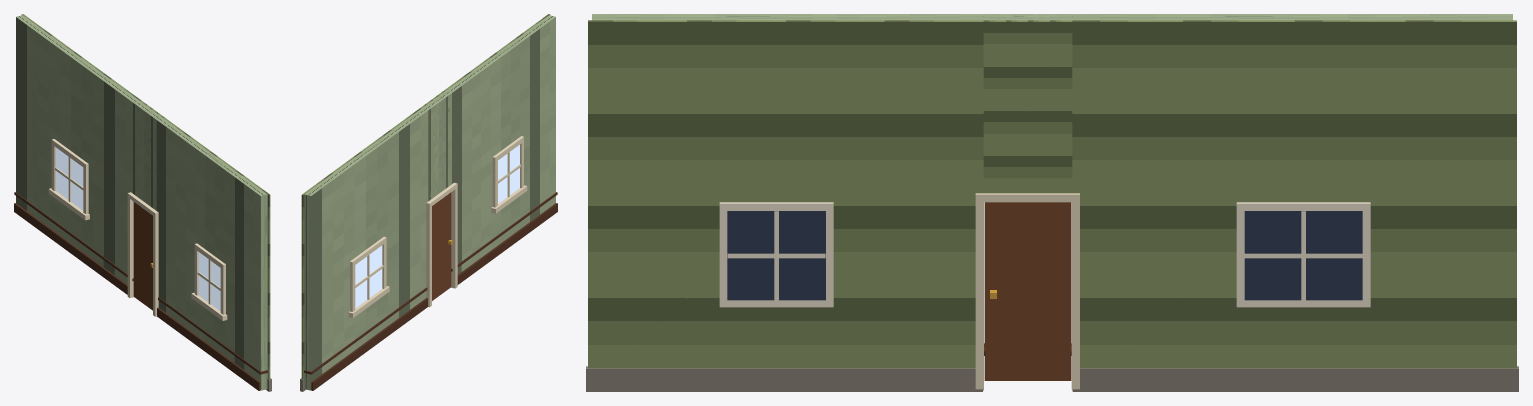
The model's file is left.glb.
3 renders of one model, left to right at view 1: azimuth 30°, elevation 25°; view 2: azimuth 150°, elevation 25°; view 3: azimuth 270°, elevation 25°, orthographic. The views are drawn at different scales.
Parts seen in each view (by area): view 1: Box1, Box3, Box5, Box14, Box2, Box4, Box25, Box8, Box36, Box41, Box11, Box12 (+10 smaller); view 2: Box1, Box3, Box5, Box14, Box2, Box25, Box4, Box6, Box36, Box39, Box12, Box11 (+10 smaller); view 3: Box6, Box8, Box14, Box10, Box7, Box18, Box9, Box29, Box17, Box28, Box1, Box3 (+3 smaller).
Part boxes in pixels (x1,y1,x2,y2): Box1: (16, 15, 139, 284); Box3: (156, 118, 267, 390); Box5: (133, 101, 162, 210); Box14: (133, 202, 152, 310); Box2: (14, 203, 127, 294); Box4: (157, 307, 260, 390); Box25: (56, 147, 83, 210); Box8: (163, 118, 270, 379); Box36: (198, 252, 220, 310); Box41: (158, 300, 267, 389); Box11: (127, 192, 133, 297); Box12: (153, 211, 158, 316); Box1: (304, 108, 428, 390); Box3: (445, 15, 555, 274); Box5: (422, 91, 451, 201); Box14: (432, 192, 451, 300); Box2: (311, 298, 427, 390); Box25: (355, 245, 382, 308); Box4: (457, 203, 557, 284); Box6: (301, 108, 420, 379); Box36: (498, 145, 519, 203); Box39: (304, 291, 426, 389); Box12: (451, 182, 457, 288); Box11: (426, 201, 431, 307); Box6: (1072, 20, 1516, 390); Box8: (588, 20, 983, 390); Box14: (984, 202, 1071, 380); Box10: (983, 20, 1072, 193); Box7: (1072, 366, 1518, 391); Box18: (1244, 211, 1362, 300); Box9: (586, 366, 982, 391); Box29: (727, 211, 825, 300); Box17: (1236, 202, 1370, 307); Box28: (719, 202, 833, 307); Box1: (1072, 14, 1512, 20); Box3: (592, 14, 983, 20).
Size of the model in its own units: 0.338 by 4.14 by 9.47.
Materials: 10 (2 with a texture image).
